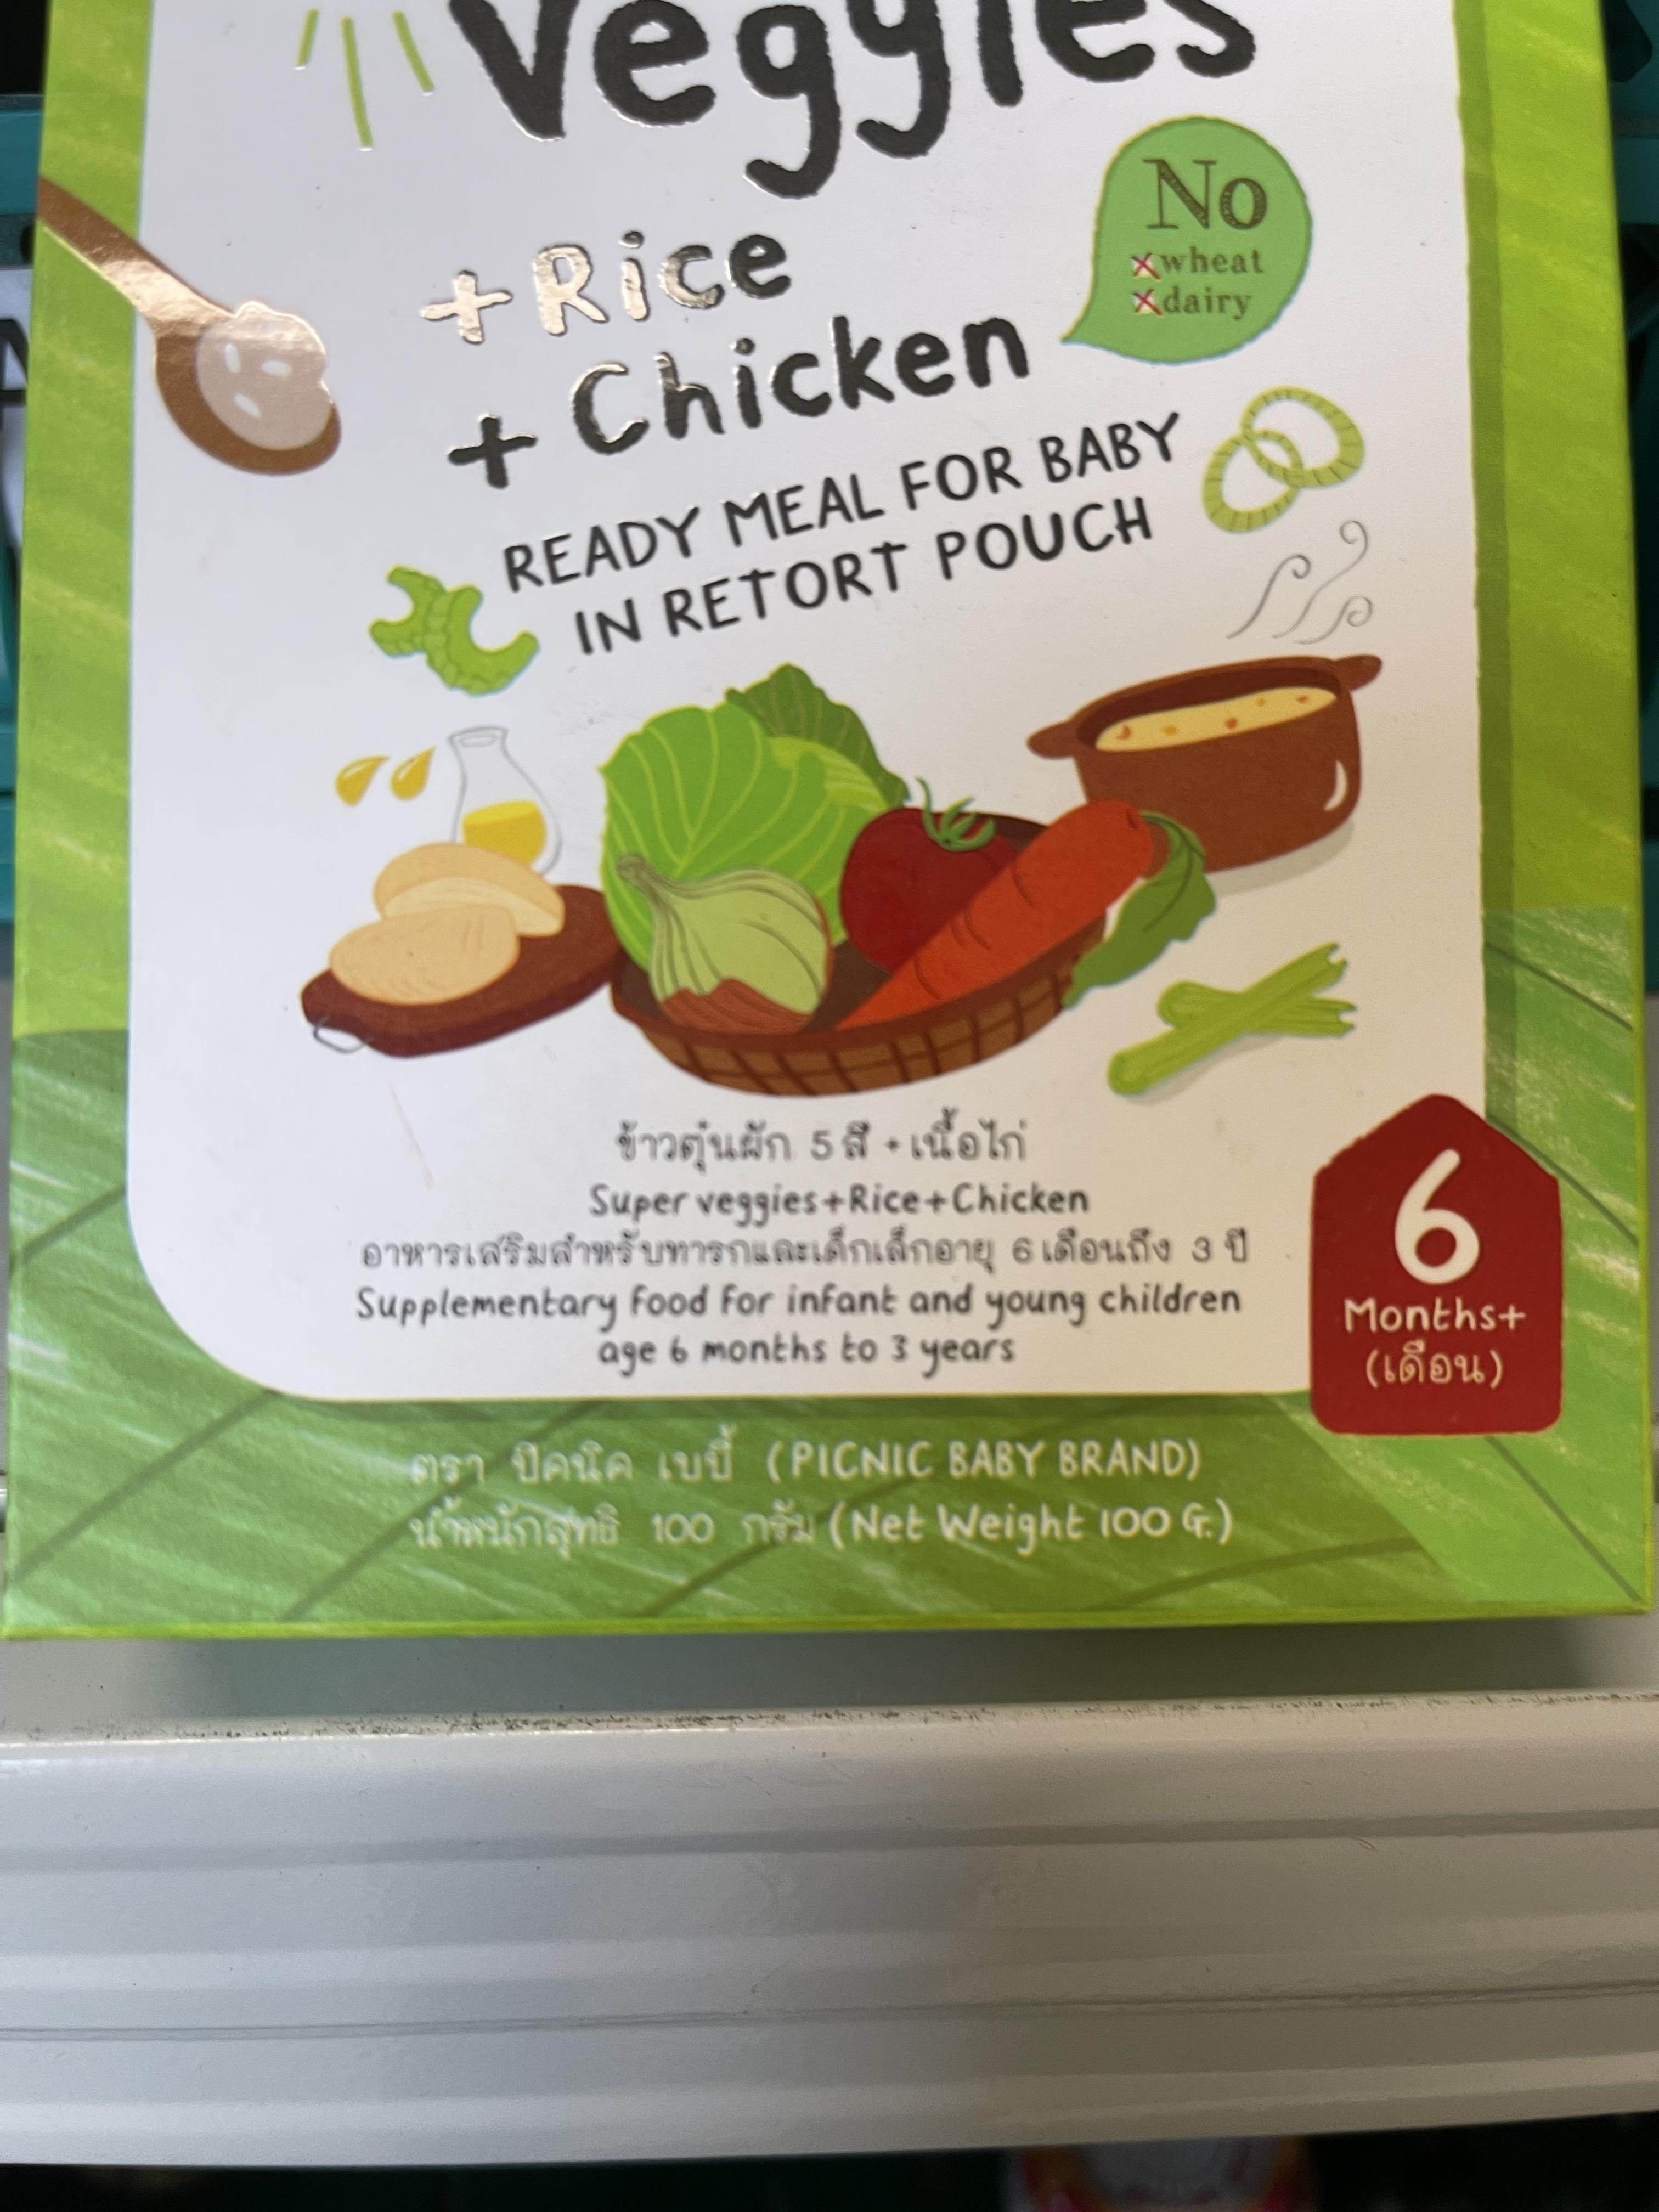object_name: (73, 5, 1638, 1595)
